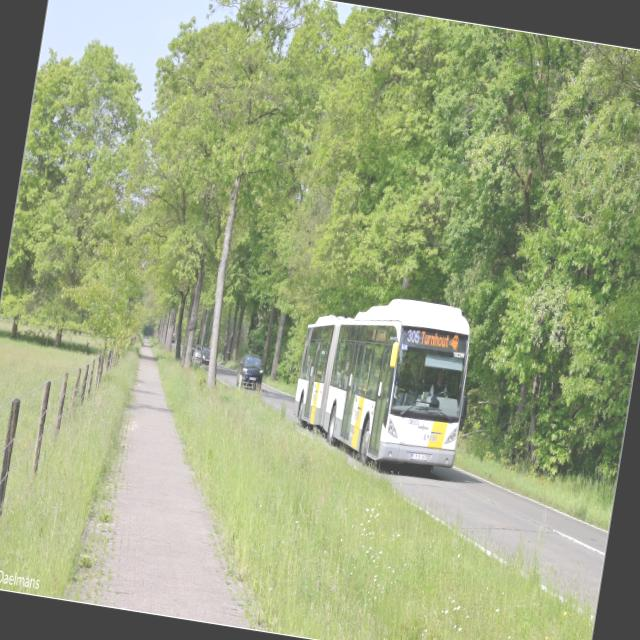bus-number: (406, 329, 421, 344)
